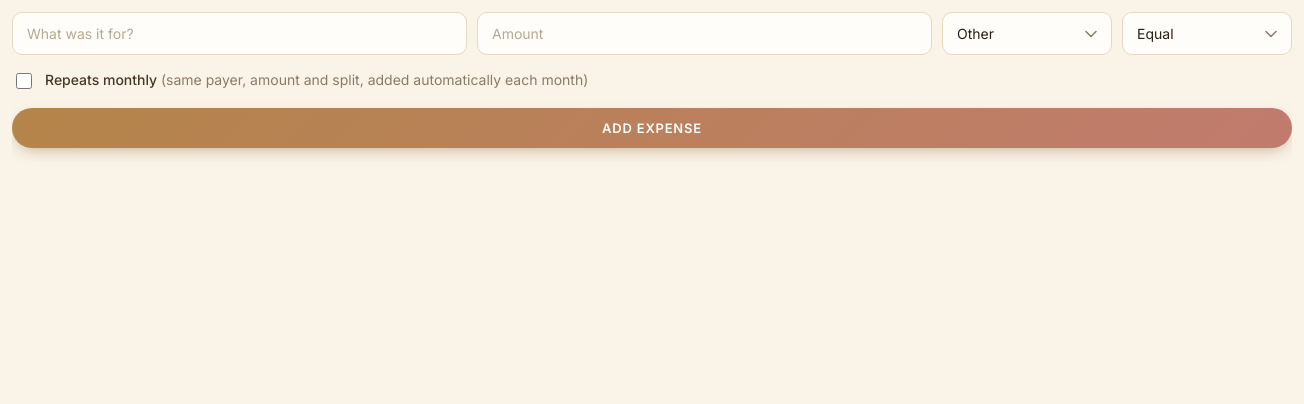
Test: AddExpenseForm — PERCENTAGE validation › percentages totalling 90 are rejected with the running total, and nothing is sent
Type "Test expense" into the field with placeholder "What was it for?" at point(240, 34), box [12, 12, 467, 55]
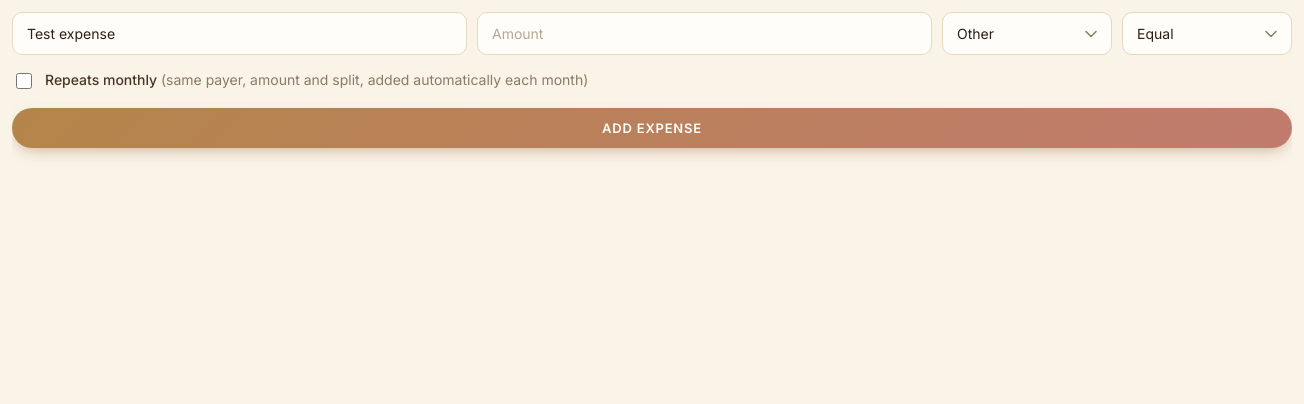
Type "99.99" into the number field with placeholder "Amount" at point(704, 34), box [477, 12, 932, 55]
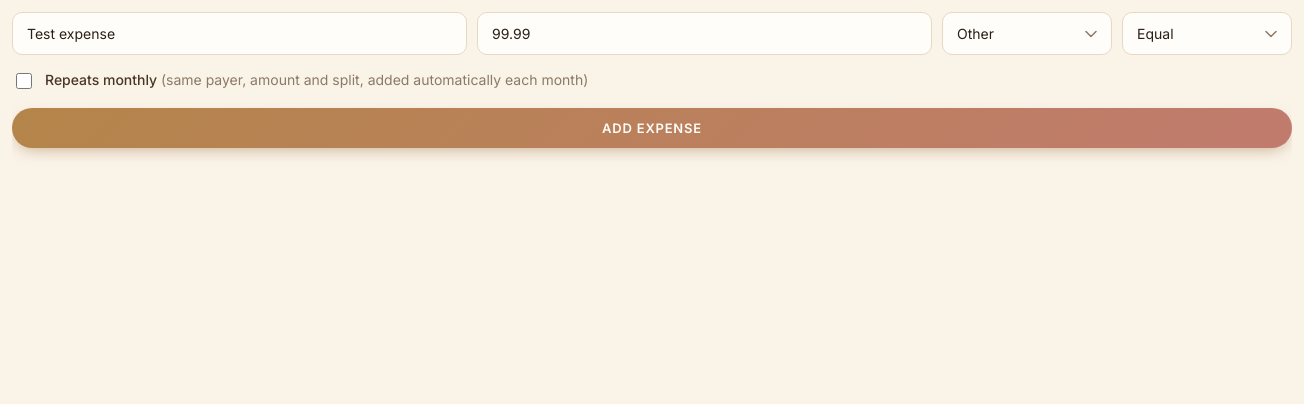
Select "Percentage" in the dropdown named "Split type" at point(1207, 34), box [1122, 12, 1292, 55]
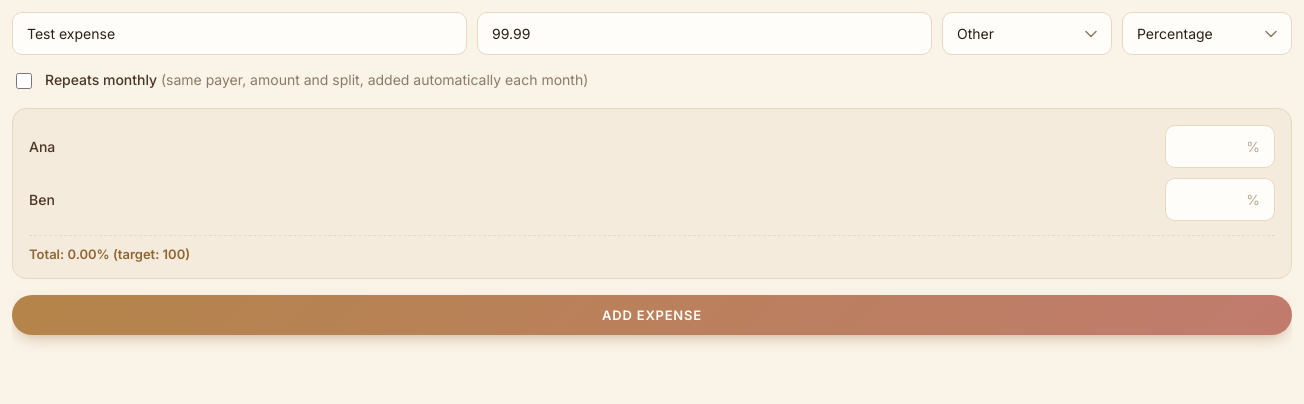
Type "30" into the number field with placeholder "%" in the row of "Ana" at point(1220, 146), box [1165, 125, 1275, 168]
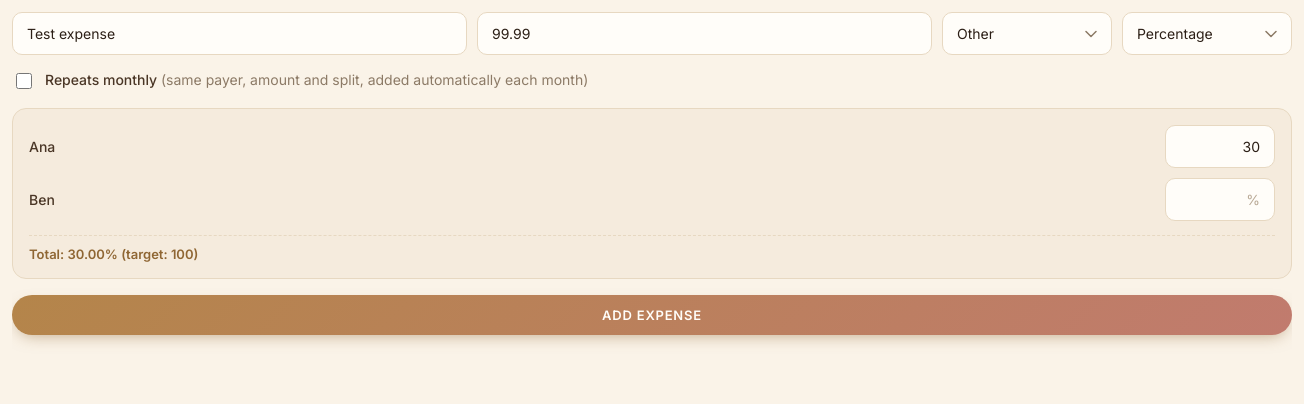
Type "60" into the number field with placeholder "%" at point(1220, 200), box [1165, 178, 1275, 221]
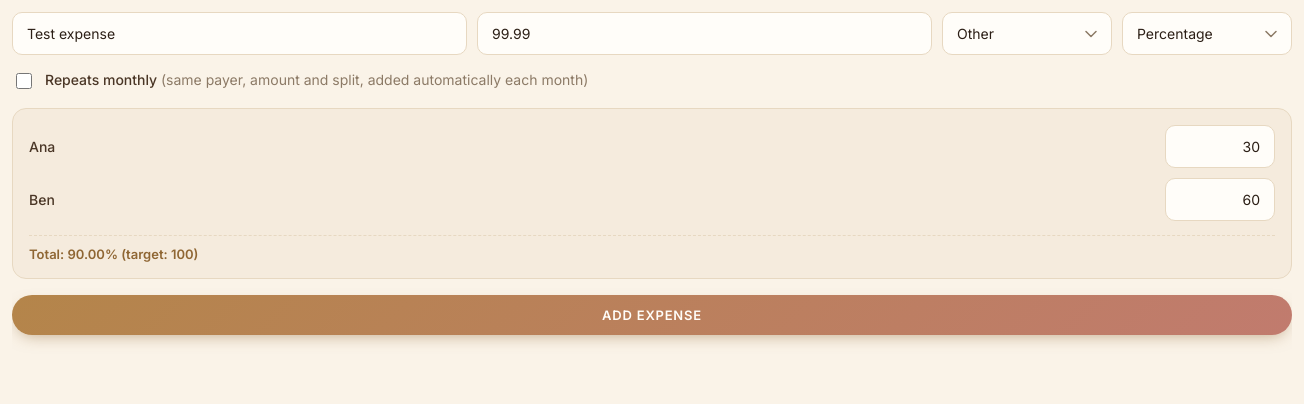
Click the button "Add expense" at point(652, 315), box [12, 295, 1292, 335]
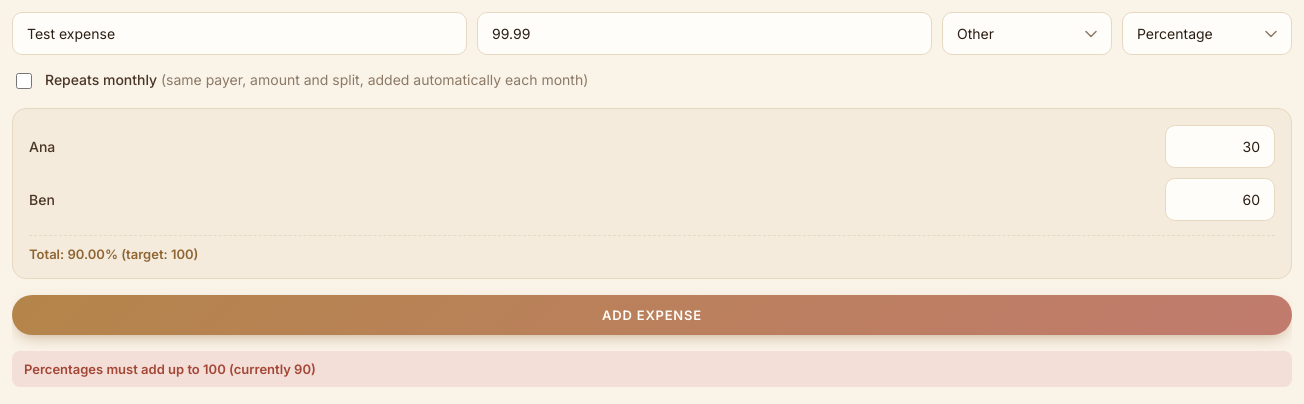
Now the text "Percentages must add up to 100 (currently 90)" is shown, box [12, 351, 1292, 387]
